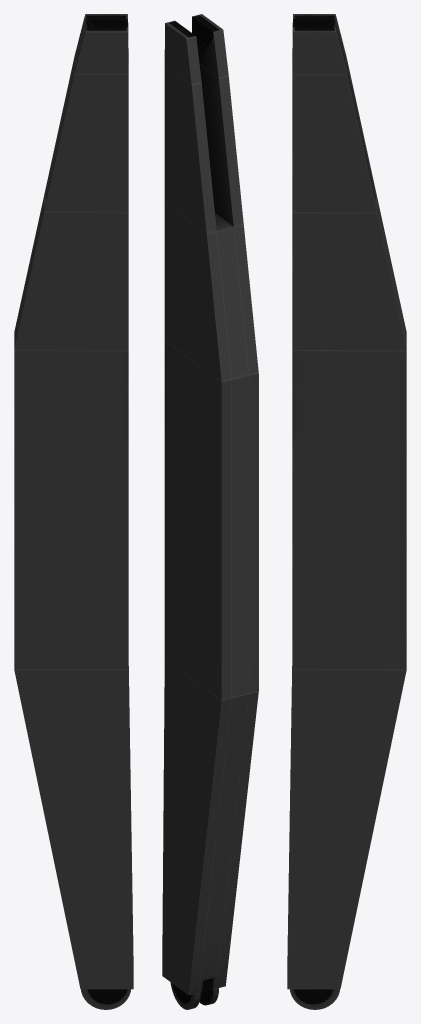
File: upperarm.dae
The picture shows the model from 3 angles, left to right: view 1: azimuth 90°, elevation 25°; view 2: azimuth 210°, elevation 25°; view 3: azimuth 270°, elevation 25°; orthographic projection.
Parts seen in each view (by area): view 1: root-base-bigarm; view 2: root-base-bigarm; view 3: root-base-bigarm.
Boxes of the visible parts, x1,y1,x2,y2 form: root-base-bigarm: (14, 14, 133, 1009); root-base-bigarm: (162, 14, 258, 1009); root-base-bigarm: (287, 14, 406, 1009).
Size of the model in its own units: 0.0877 by 0.2441 by 2.21.
Materials: 1 (1 with a texture image).
